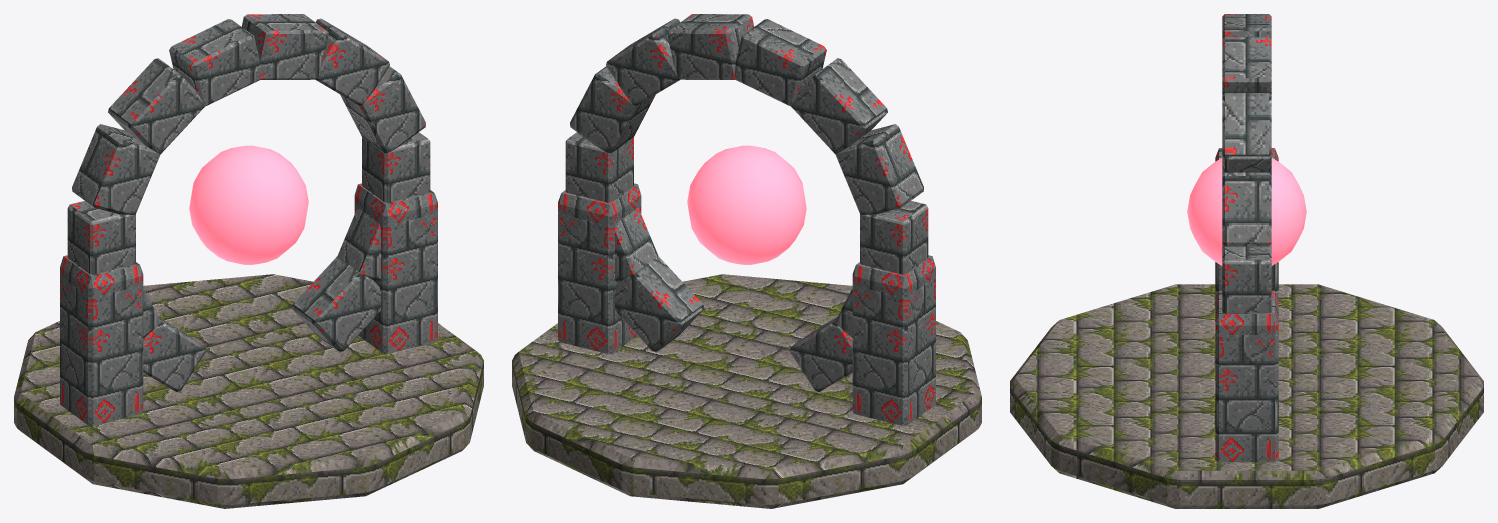
The model's file is boss.glb.
3 views of the same model, side by side, from view 1: azimuth 30°, elevation 25°; view 2: azimuth 150°, elevation 25°; view 3: azimuth 270°, elevation 25° (orthographic).
Visible parts, largest first — view 1: Base, Leg-1, Orb, Leg1, Block6, Block5, Block4, Block12, Block3, Block7, Block1, Block0 (+3 smaller); view 2: Base, Leg-1, Orb, Leg1, Block6, Block5, Block4, Block12, Block3, Block7, Block1, Block0 (+3 smaller); view 3: Base, Leg1, Orb, Block2, Block1, Block0, Block3, Block4, Leg-1.
Part boxes in pixels (bbox=[...]): Base: bbox=[14, 274, 483, 508]; Leg-1: bbox=[60, 255, 143, 425]; Orb: bbox=[189, 145, 308, 264]; Leg1: bbox=[354, 183, 437, 353]; Block6: bbox=[72, 124, 159, 214]; Block5: bbox=[108, 58, 204, 154]; Block4: bbox=[169, 19, 261, 106]; Block12: bbox=[291, 256, 380, 352]; Block3: bbox=[241, 14, 328, 79]; Block7: bbox=[67, 201, 135, 274]; Block1: bbox=[340, 66, 425, 153]; Block0: bbox=[362, 132, 430, 202]; Base: bbox=[512, 274, 981, 508]; Leg-1: bbox=[852, 255, 935, 425]; Orb: bbox=[687, 145, 806, 264]; Leg1: bbox=[558, 183, 641, 353]; Block6: bbox=[836, 124, 923, 214]; Block5: bbox=[791, 58, 887, 154]; Block4: bbox=[734, 19, 826, 106]; Block12: bbox=[615, 256, 704, 352]; Block3: bbox=[667, 14, 754, 79]; Block7: bbox=[860, 201, 928, 274]; Block1: bbox=[570, 66, 655, 153]; Block0: bbox=[565, 132, 633, 202]; Base: bbox=[1010, 284, 1483, 508]; Leg1: bbox=[1215, 290, 1278, 462]; Orb: bbox=[1187, 157, 1306, 265]; Block2: bbox=[1222, 93, 1271, 175]; Block1: bbox=[1222, 172, 1271, 246]; Block0: bbox=[1222, 243, 1271, 313]; Block3: bbox=[1222, 37, 1271, 95]; Block4: bbox=[1222, 14, 1271, 38]; Leg-1: bbox=[1215, 148, 1278, 299].
Size of the model in its own units: 6.47 by 6.01 by 6.74.
3 materials, 2 textured.
